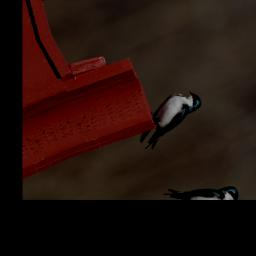Swallow: (128, 84, 212, 153)
